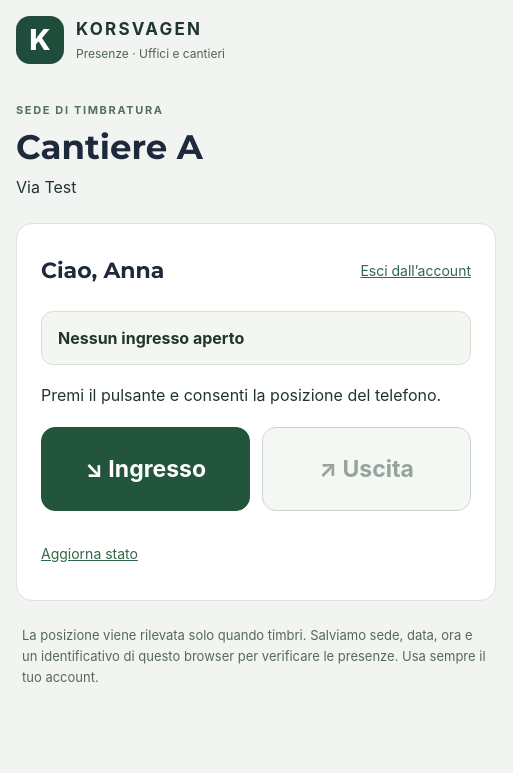
Scenario: denying location never sends a punch and leaves a clear recoverable error
Click the button "↘ Ingresso" at (146, 469), box x1=41 y1=427 x2=250 y2=511
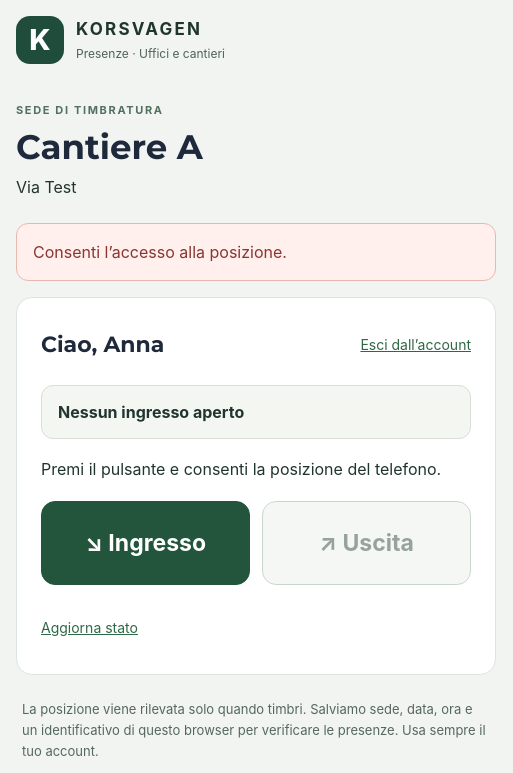
Expected: the button "↘ Ingresso" is enabled, x1=41 y1=501 x2=250 y2=585
Expected: the message shows "Consenti l’accesso alla posizione", x1=33 y1=242 x2=287 y2=262
